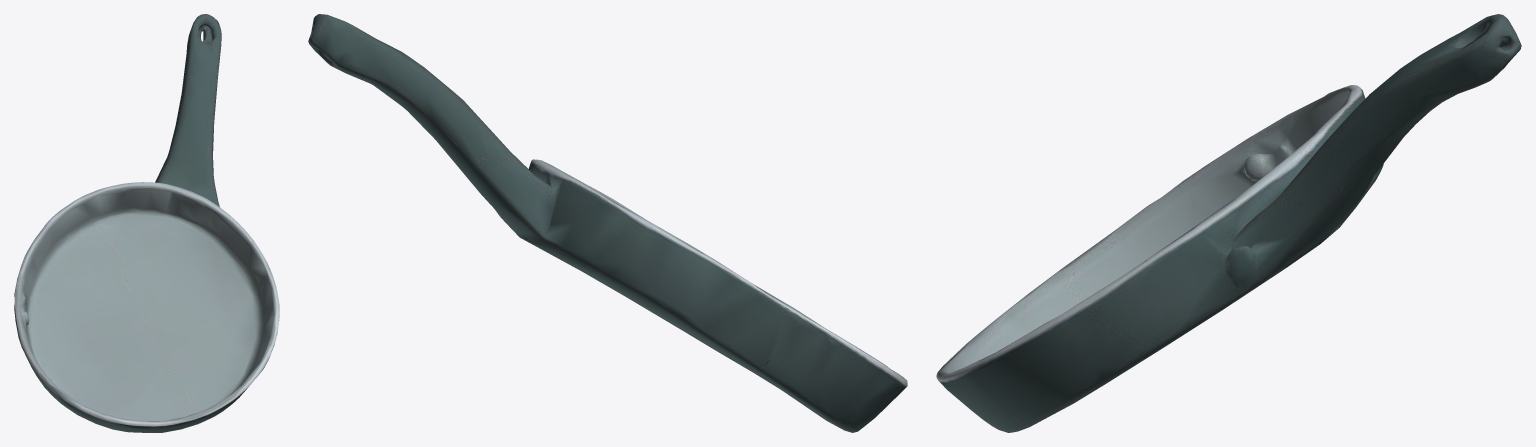
Rendered from Pan_Meshy_low.glb.
The picture shows the model from 3 angles, left to right: view 1: azimuth 30°, elevation 25°; view 2: azimuth 150°, elevation 25°; view 3: azimuth 270°, elevation 25°; orthographic projection. The views are drawn at different scales.
Visible parts, largest first — view 1: geometry_0; view 2: geometry_0; view 3: geometry_0.
Boxes of the visible parts, x1=… form: geometry_0: x1=14, y1=14, x2=279, y2=432; geometry_0: x1=308, y1=14, x2=907, y2=432; geometry_0: x1=936, y1=14, x2=1521, y2=432.
Bounding box in the file's own units: 1.9 × 1.9 × 1.86.
1 material, 1 textured.
